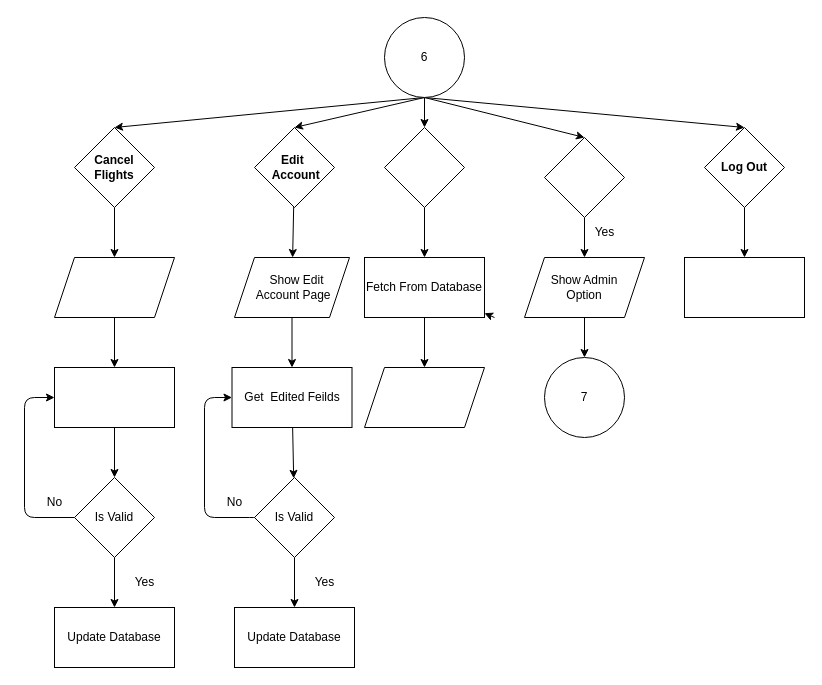
This 822x685 diagram has some shape labels left out. The centre of each missing label's shape, as x and y in pixels:
"Booking History" belongs at (x=424, y=167).
"Get Ticket ID" belongs at (x=114, y=397).
"Is User Admin" belongs at (x=584, y=177).
"Logout" belongs at (x=744, y=287).
"Show Cancel Flight Page" belongs at (x=114, y=287).
"Show Fetched Records" belongs at (x=424, y=397).
